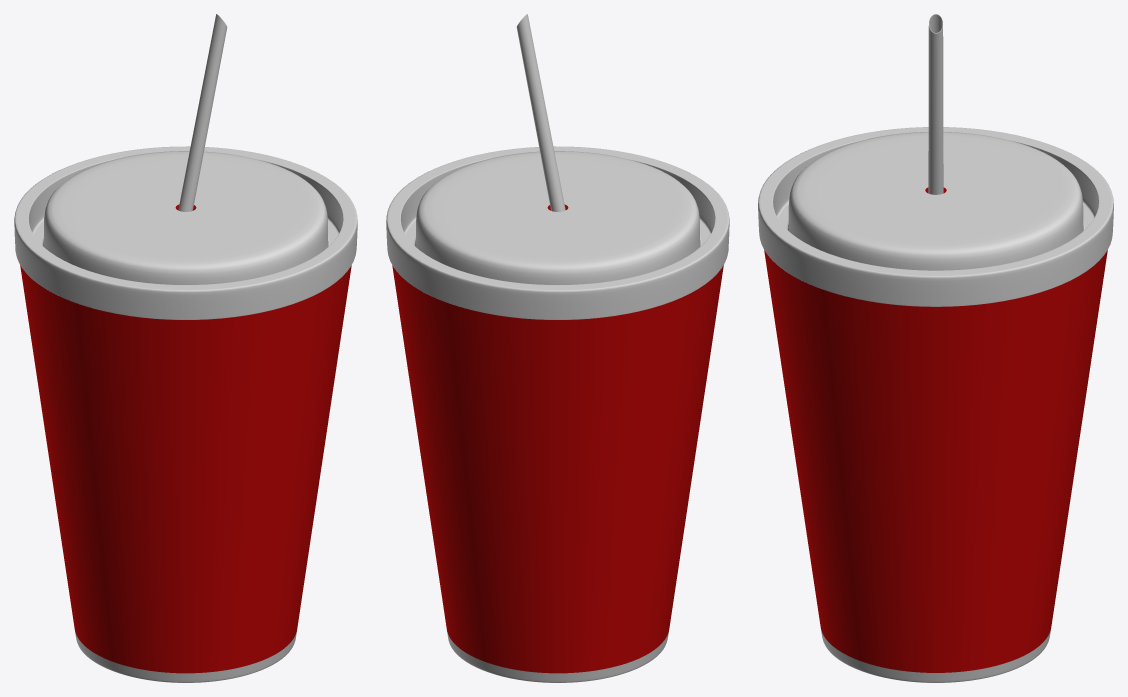
Rendered from drink.fbx.
3 renders of one model, left to right at view 1: azimuth 30°, elevation 25°; view 2: azimuth 150°, elevation 25°; view 3: azimuth 270°, elevation 25°, orthographic. The views are drawn at different scales.
Visible parts, largest first — view 1: polySurface1, polySurface2, pCylinder5; view 2: polySurface1, polySurface2, pCylinder5; view 3: polySurface1, polySurface2, pCylinder5.
Part boxes in pixels (left/top/right/bottom): polySurface1: left=20, top=204, right=351, bottom=682; polySurface2: left=14, top=146, right=357, bottom=319; pCylinder5: left=178, top=14, right=227, bottom=211; polySurface1: left=392, top=204, right=723, bottom=682; polySurface2: left=386, top=146, right=729, bottom=319; pCylinder5: left=516, top=14, right=565, bottom=211; polySurface1: left=764, top=187, right=1107, bottom=682; polySurface2: left=758, top=127, right=1113, bottom=306; pCylinder5: left=928, top=14, right=943, bottom=194.
Bounding box in the file's own units: 9.52 × 18.81 × 9.52.
